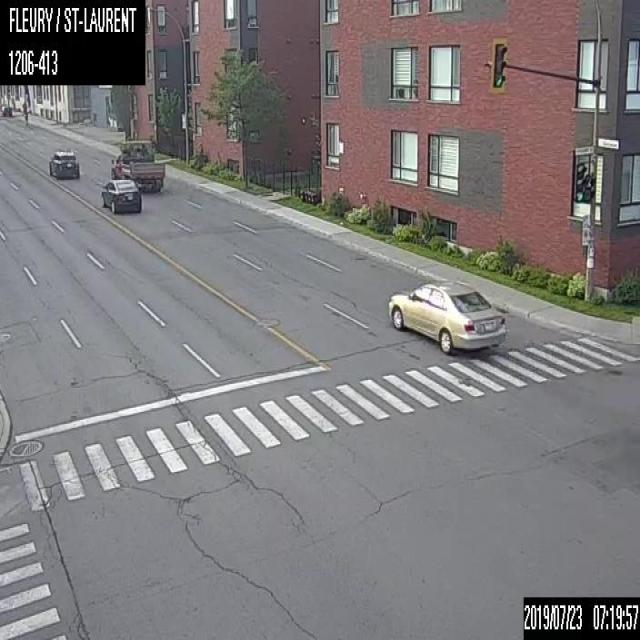pedestrian: (22, 102, 28, 125)
vehicle: (386, 279, 506, 352), (111, 139, 165, 191), (100, 179, 140, 212), (49, 148, 78, 177), (1, 104, 11, 116)
